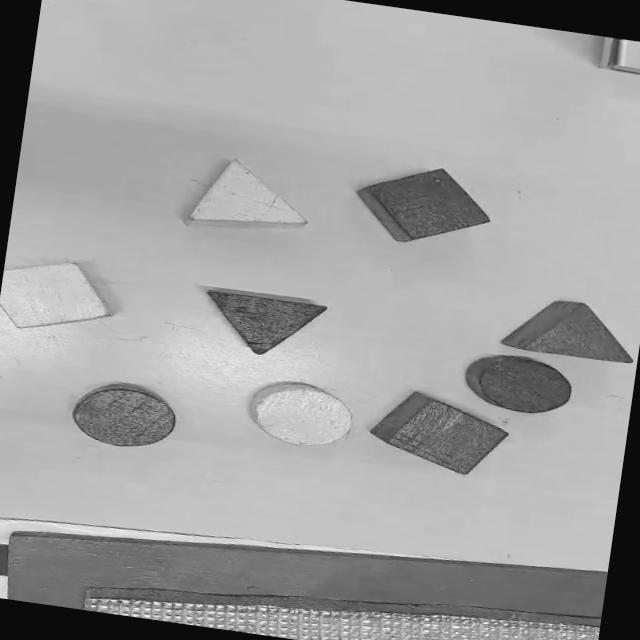bcircle: (466, 350, 576, 419)
bcube: (358, 158, 495, 252)
btriangle: (198, 287, 327, 364)
rcircle: (67, 376, 182, 454)
rcube: (366, 387, 514, 480)
rtriangle: (497, 291, 640, 366)
ycircle: (249, 382, 352, 446)
ycube: (0, 253, 120, 342)
ytriangle: (186, 154, 316, 242)
